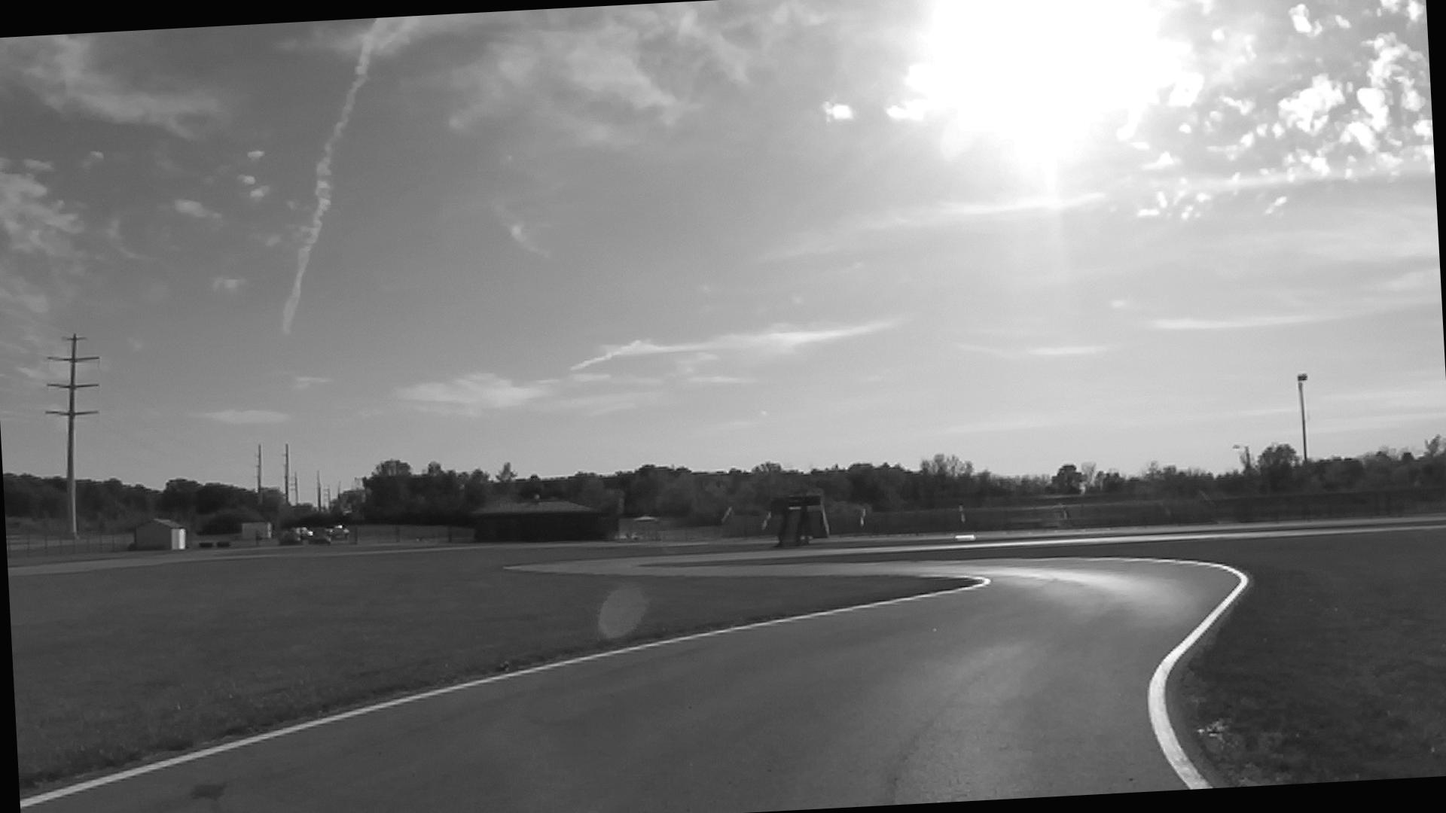white-line: (20, 576, 989, 809), (1148, 562, 1248, 789)
